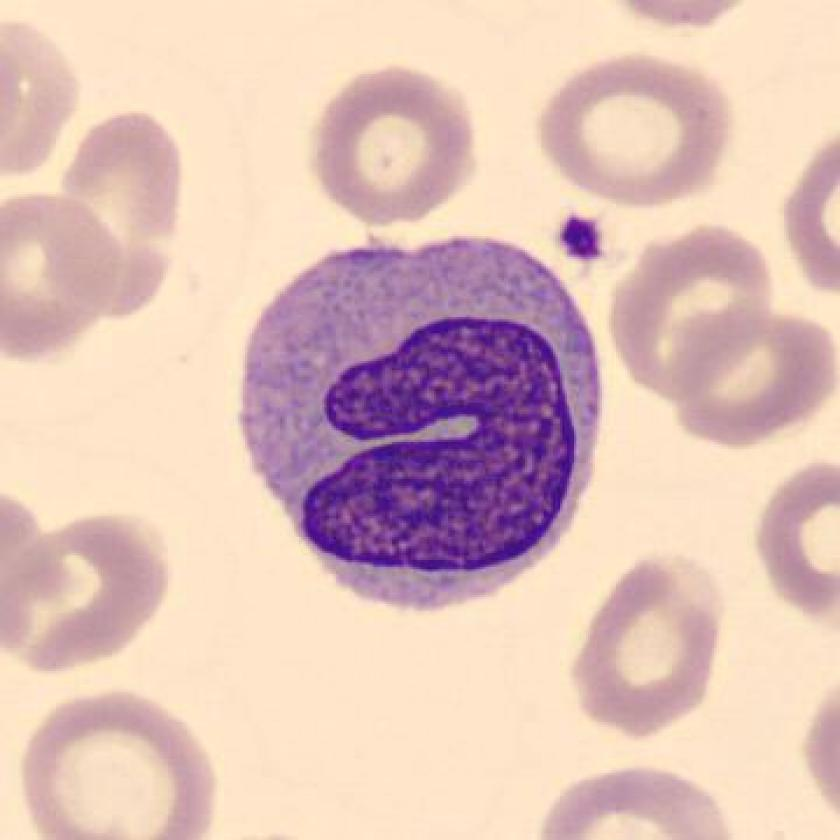monocyte: (216, 214, 631, 640)
